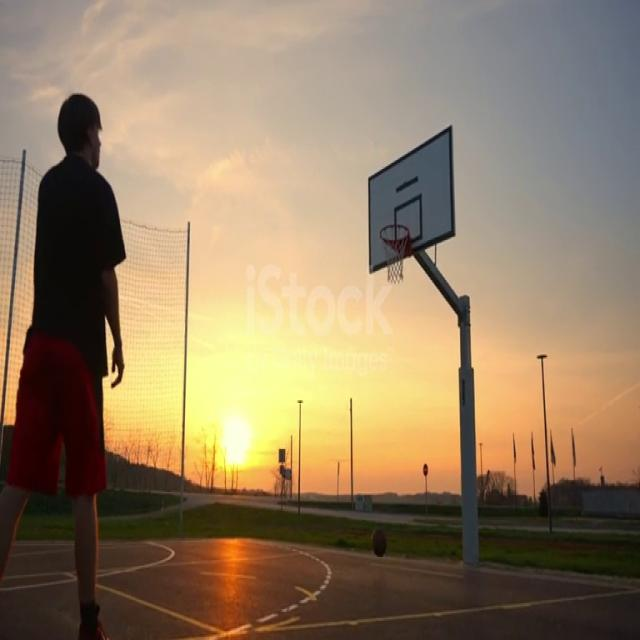ball: (372, 526, 388, 558)
